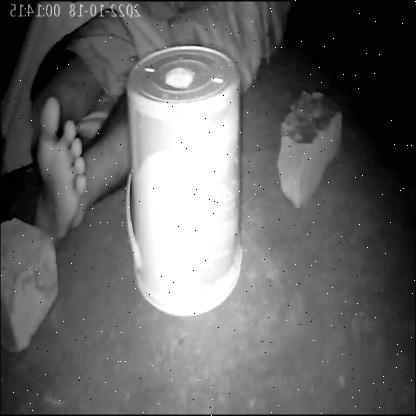leg: (27, 90, 131, 244)
